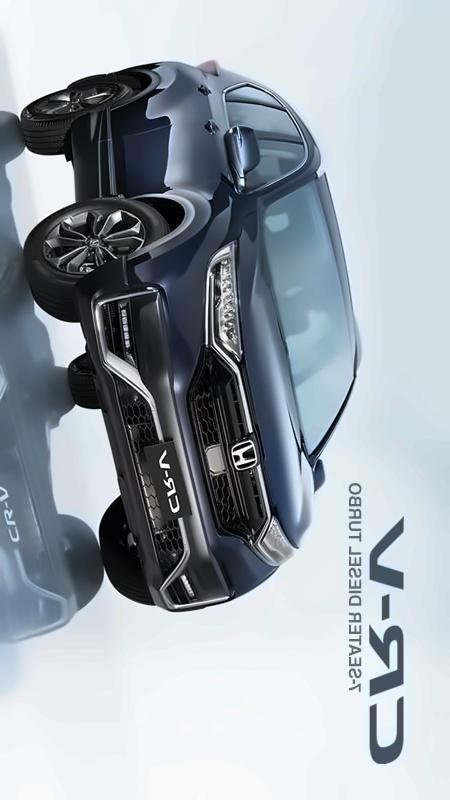Car hood: (238, 209, 315, 550)
Driver-s door - -F-R-: (106, 121, 324, 210)
Fender - -F-R-: (101, 178, 255, 262)
Fender - -R-R-: (131, 58, 225, 103)
Front bumper: (69, 235, 269, 617)
Headlight - -L-: (247, 508, 303, 572)
Headlight - -R-: (198, 233, 247, 369)
Passenger-s door - -R-R-: (109, 69, 311, 138)
Rear bumper: (109, 59, 169, 83)
Rear light - -R-: (195, 52, 228, 85)
Side bumper - -R-: (66, 103, 122, 209)
Side mirror - -L-: (308, 447, 332, 495)
Side mirror - -R-: (211, 117, 269, 192)
